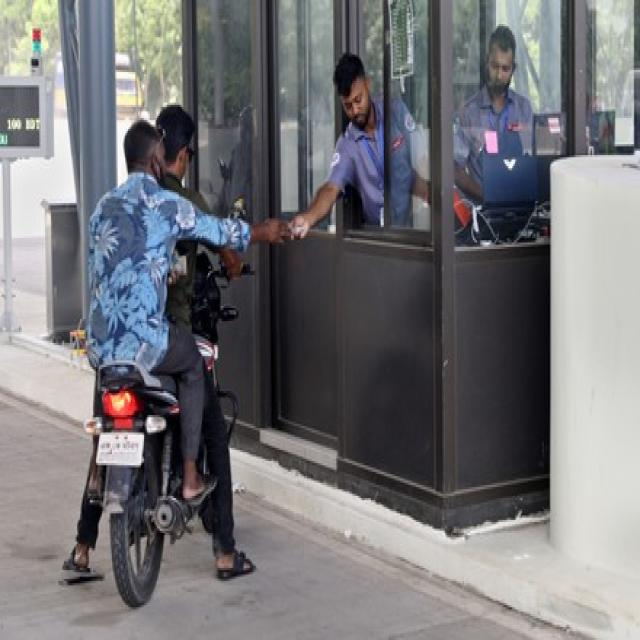bike: (84, 210, 235, 605)
